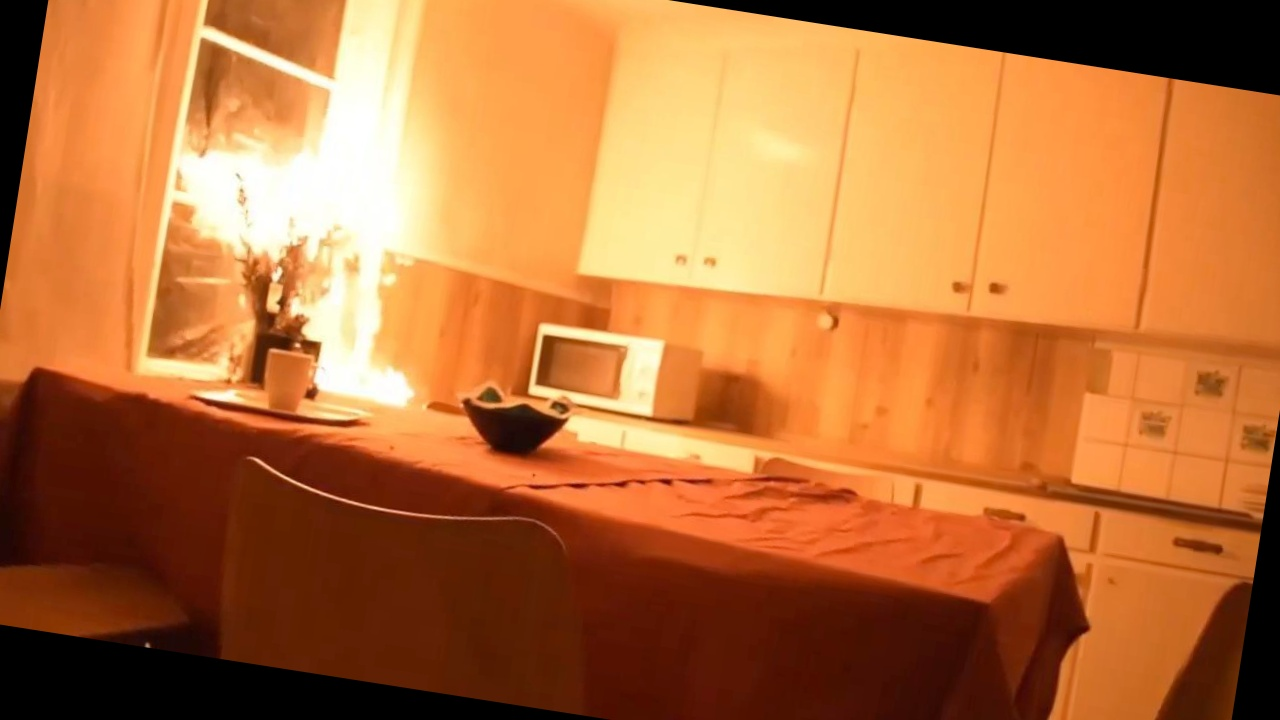fire: (138, 71, 473, 418)
